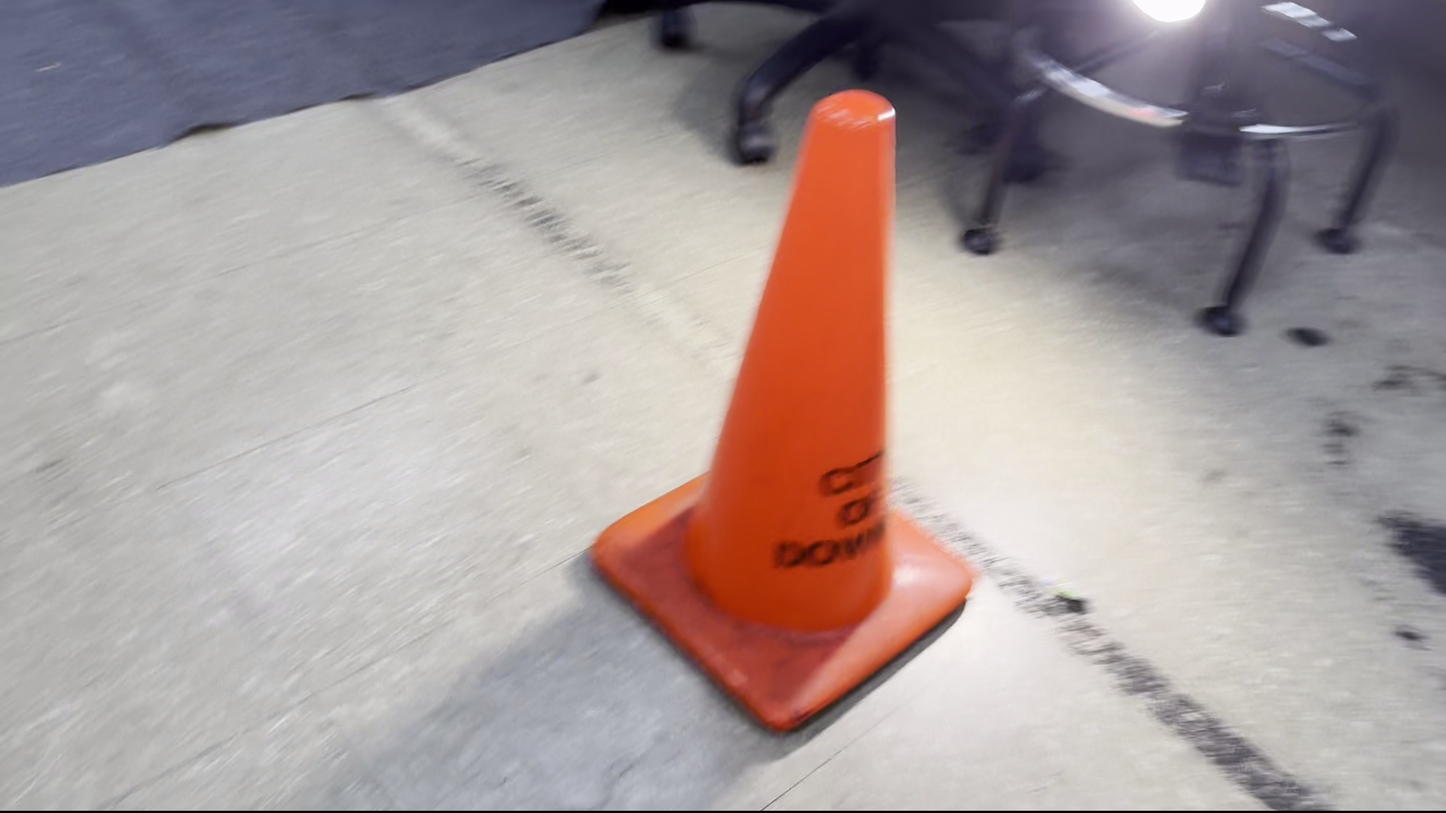traffic_cone: (588, 88, 975, 736)
